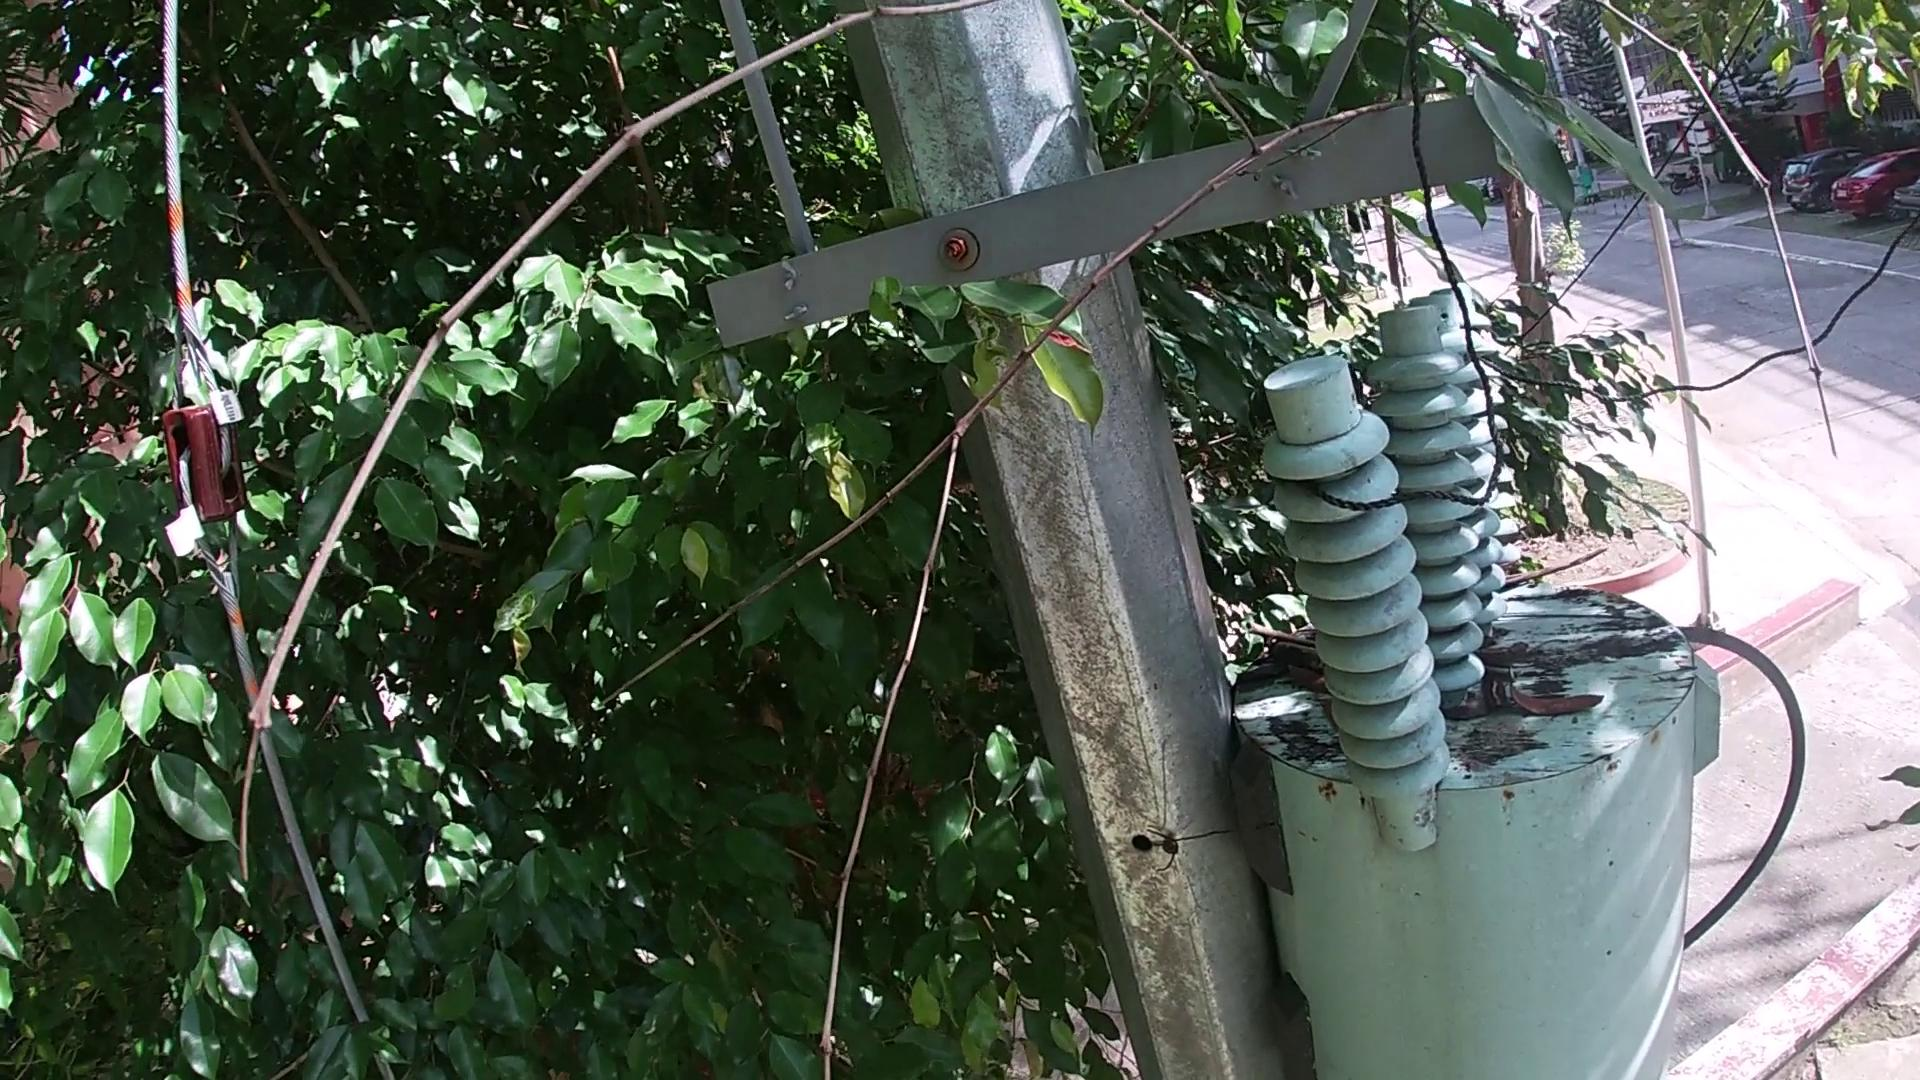leaf: (1502, 671, 1606, 715), (1284, 663, 1328, 698)
tree branch: (229, 1, 1845, 1077), (1501, 541, 1615, 595), (1244, 616, 1325, 683)
